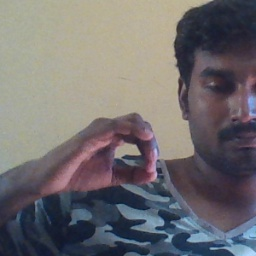O: (44, 109, 166, 199)
